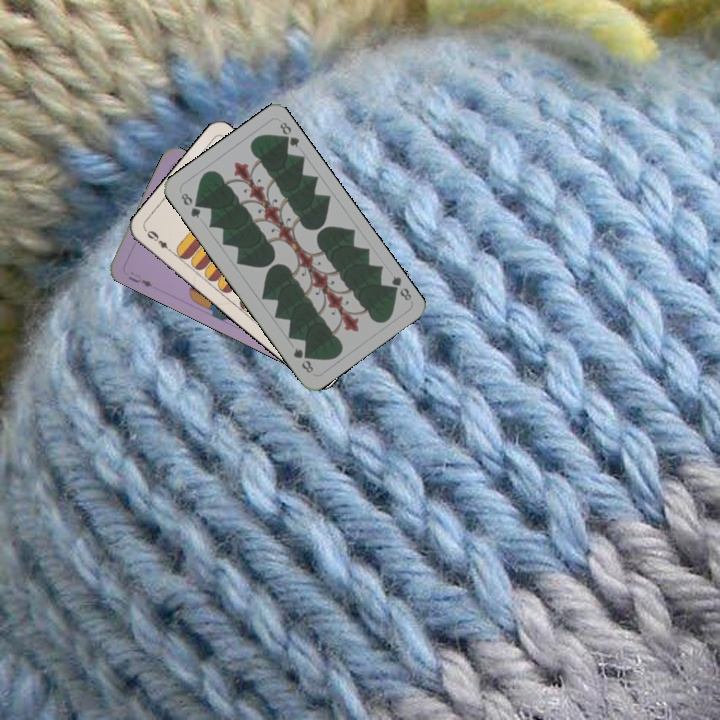E9: (141, 226, 176, 256)
EU: (124, 269, 155, 290)
G8: (384, 271, 414, 303), (177, 188, 203, 221)
